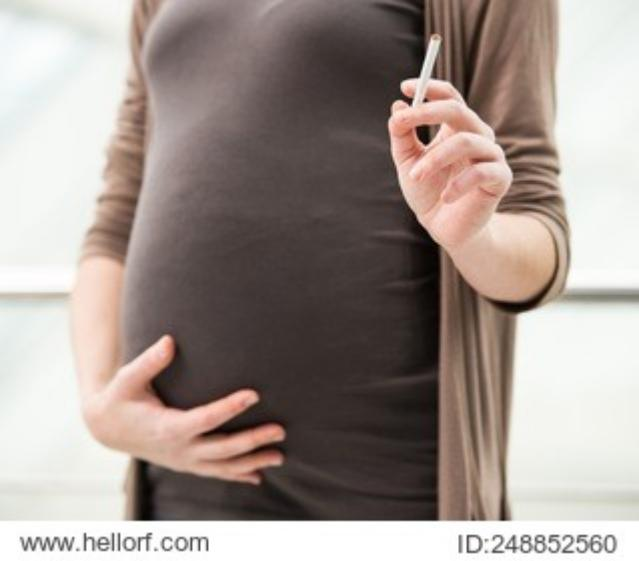Cigarette: (406, 30, 446, 116)
